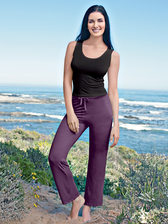clothoes: (38, 88, 114, 206), (61, 32, 122, 99)
